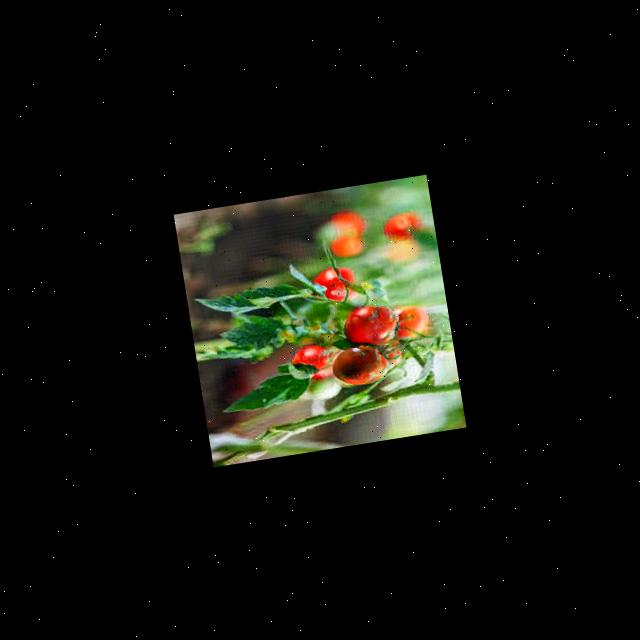tomato: (328, 339, 391, 388), (342, 301, 400, 348)
